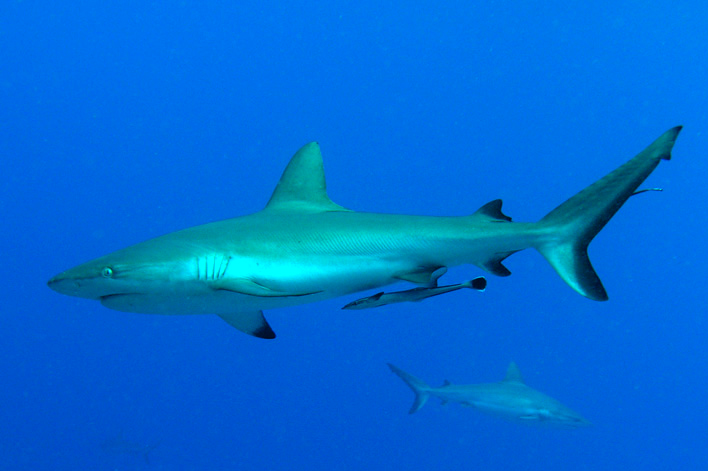Carcharhinus_amblyrhynchos: (32, 120, 696, 339)
